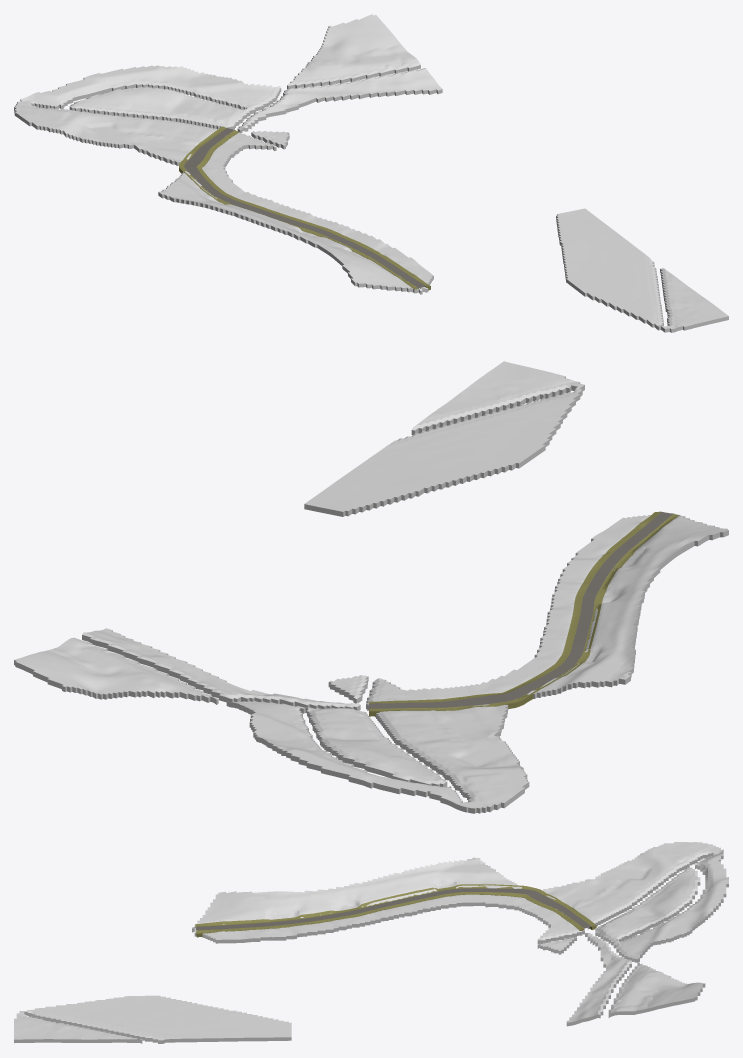
The model's file is conz_116.glb.
3 renders of one model, top to bottom at view 1: azimuth 30°, elevation 25°; view 2: azimuth 150°, elevation 25°; view 3: azimuth 270°, elevation 25°, orthographic. The views are drawn at different scales.
Parts seen in each view (by area): view 1: terrain116, road116, verge116L, verge116R; view 2: terrain116, road116, verge116R, verge116L; view 3: terrain116, road116, verge116R, verge116L.
Part boxes in pixels (x1=…): terrain116: x1=14, y1=14, x2=728, y2=332; road116: x1=184, y1=128, x2=425, y2=288; verge116L: x1=196, y1=130, x2=430, y2=289; verge116R: x1=179, y1=126, x2=418, y2=289; terrain116: x1=14, y1=361, x2=728, y2=813; road116: x1=369, y1=512, x2=672, y2=708; verge116R: x1=369, y1=514, x2=679, y2=716; verge116L: x1=369, y1=511, x2=661, y2=703; terrain116: x1=14, y1=842, x2=728, y2=1043; road116: x1=195, y1=888, x2=591, y2=930; verge116R: x1=195, y1=884, x2=596, y2=929; verge116L: x1=196, y1=892, x2=584, y2=937.
Size of the model in its own units: 304 by 39.47 by 546.
